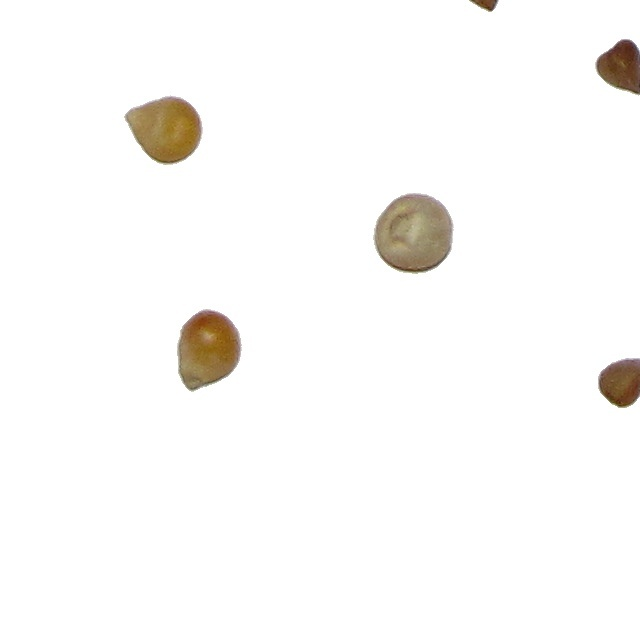buckwheat: (594, 38, 640, 97), (597, 357, 640, 409)
mais: (372, 192, 455, 275), (123, 94, 204, 166), (176, 308, 243, 393)
